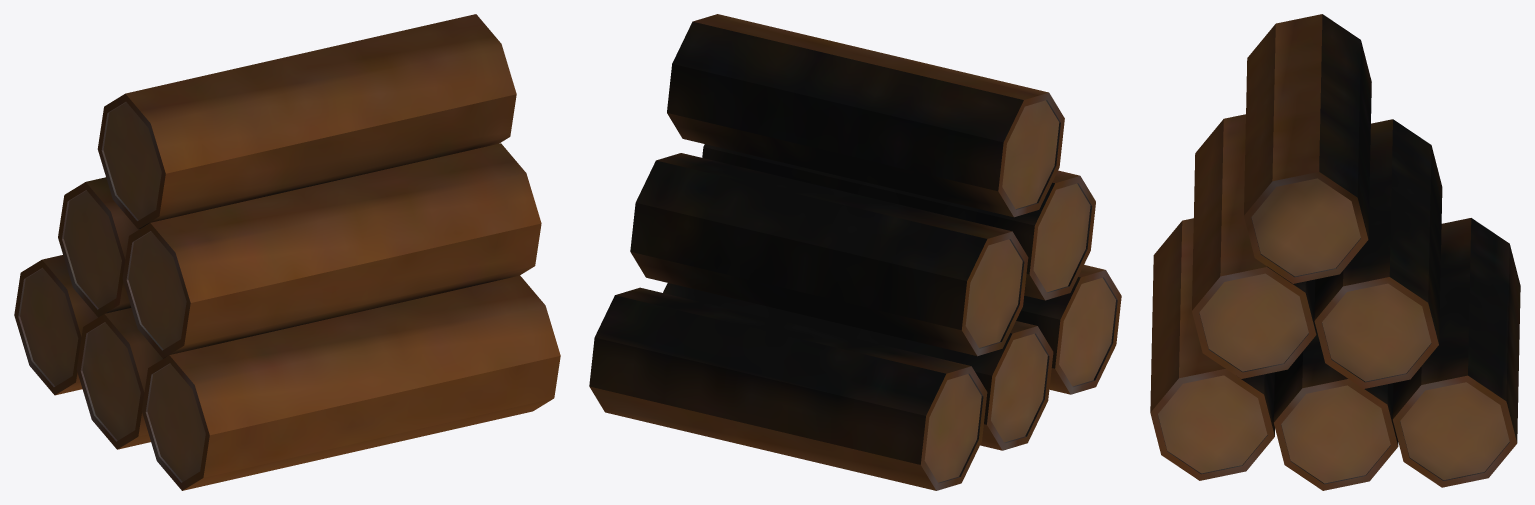
File: logs.glb
3 views of the same model, side by side, from view 1: azimuth 30°, elevation 25°; view 2: azimuth 150°, elevation 25°; view 3: azimuth 270°, elevation 25° (orthographic). The views are drawn at different scales.
Parts seen in each view (by area): view 1: Object001.005_Object001_mtl_0.001; view 2: Object001.005_Object001_mtl_0.001; view 3: Object001.005_Object001_mtl_0.001.
Part boxes in pixels (left/top/right/bottom): Object001.005_Object001_mtl_0.001: left=14, top=14, right=560, bottom=490; Object001.005_Object001_mtl_0.001: left=589, top=14, right=1121, bottom=490; Object001.005_Object001_mtl_0.001: left=1150, top=14, right=1520, bottom=490.
Bounding box in the file's own units: 1.22 × 1.17 × 1.21.
1 material, 1 textured.
